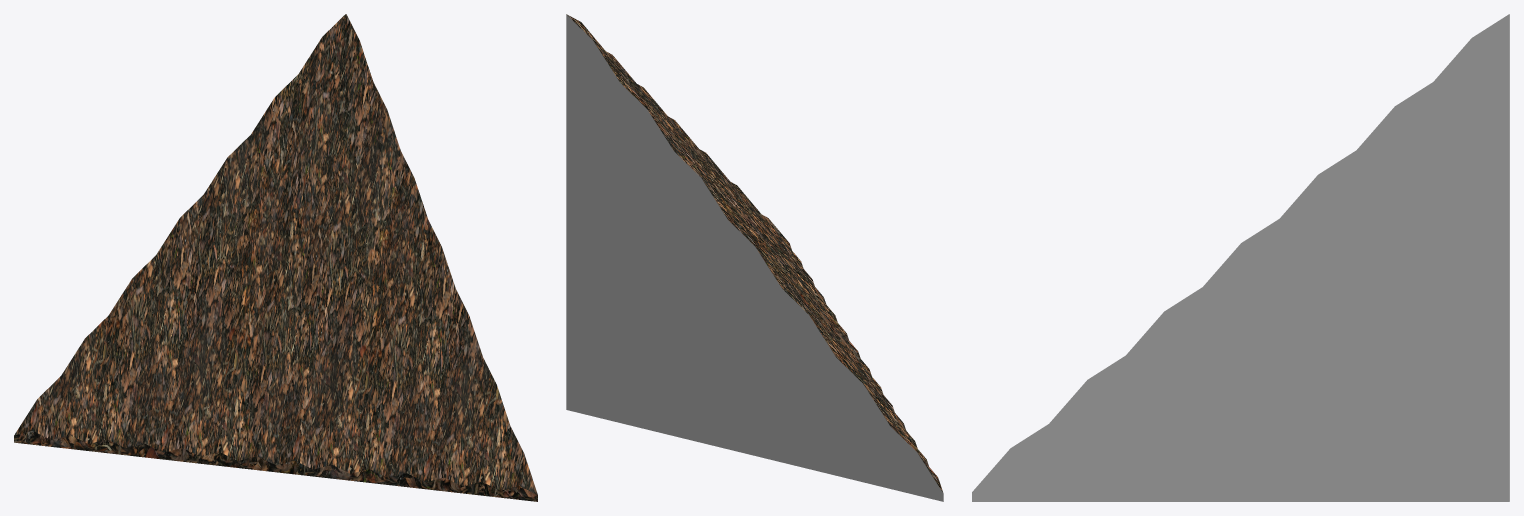
The model's file is SM_SlantedRoof-1Corner.fbx.
3 renders of one model, left to right at view 1: azimuth 30°, elevation 25°; view 2: azimuth 150°, elevation 25°; view 3: azimuth 270°, elevation 25°, orthographic. The views are drawn at different scales.
Parts seen in each view (by area): view 1: SM_SlantedRoof-1Corner_LOD0; view 2: SM_SlantedRoof-1Corner_LOD0; view 3: SM_SlantedRoof-1Corner_LOD0.
Part boxes in pixels (box(x1,y1,x2,y2)): SM_SlantedRoof-1Corner_LOD0: box(14, 14, 537, 501); SM_SlantedRoof-1Corner_LOD0: box(566, 14, 943, 501); SM_SlantedRoof-1Corner_LOD0: box(972, 14, 1509, 501).
Bounding box in the file's own units: 500 × 500 × 500.
